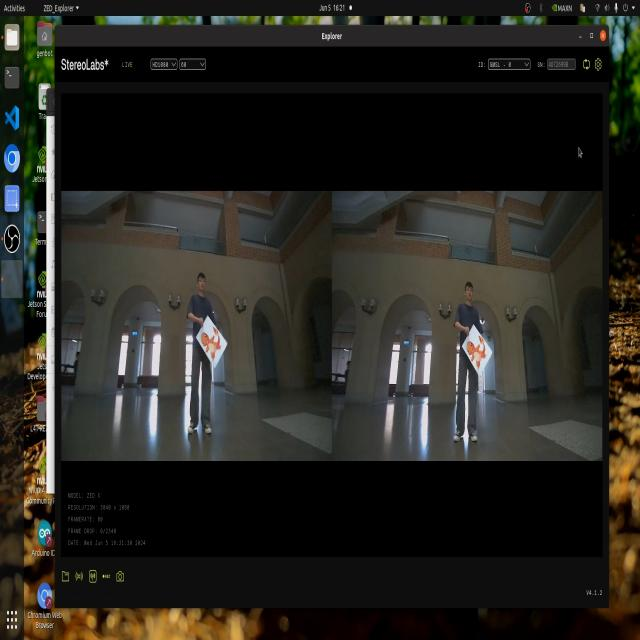red: (465, 333, 495, 369), (199, 324, 223, 366)
